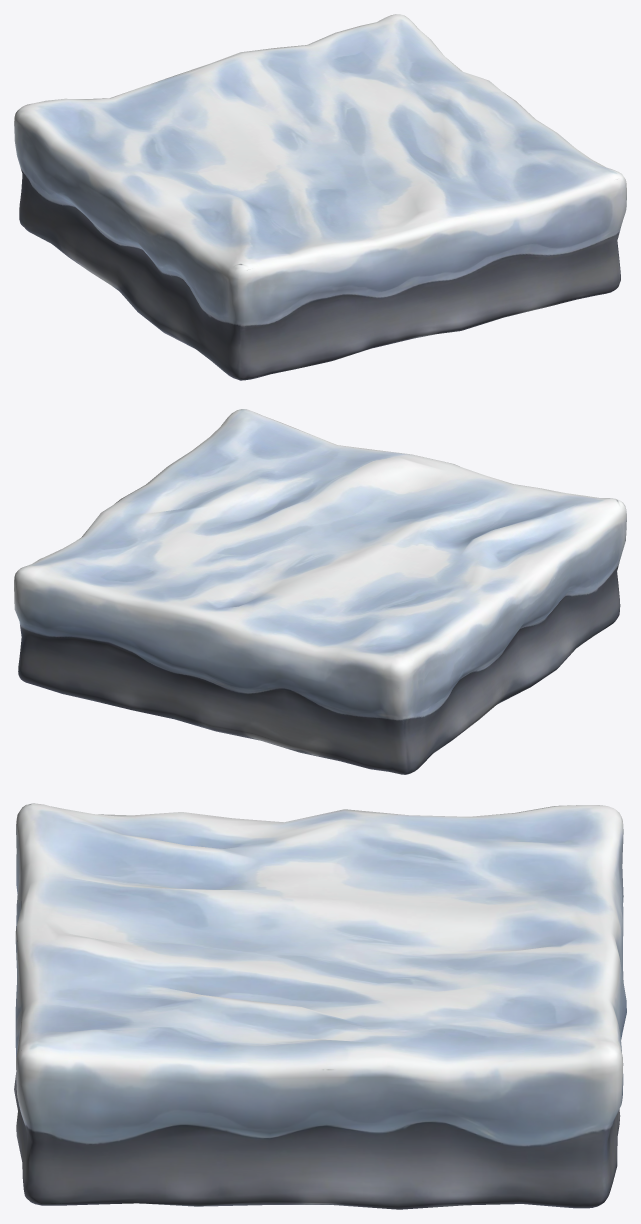
File: gndx_snow.glb
3 renders of one model, top to bottom at view 1: azimuth 30°, elevation 25°; view 2: azimuth 150°, elevation 25°; view 3: azimuth 270°, elevation 25°, orthographic. The views are drawn at different scales.
Parts seen in each view (by area): view 1: Mesh0; view 2: Mesh0; view 3: Mesh0.
Part boxes in pixels (left/top/right/bottom): Mesh0: left=14, top=14, right=626, bottom=380; Mesh0: left=14, top=409, right=626, bottom=774; Mesh0: left=14, top=803, right=626, bottom=1209.
Size of the model in its own units: 1.91 by 0.5465 by 1.9.
1 material, 1 textured.
